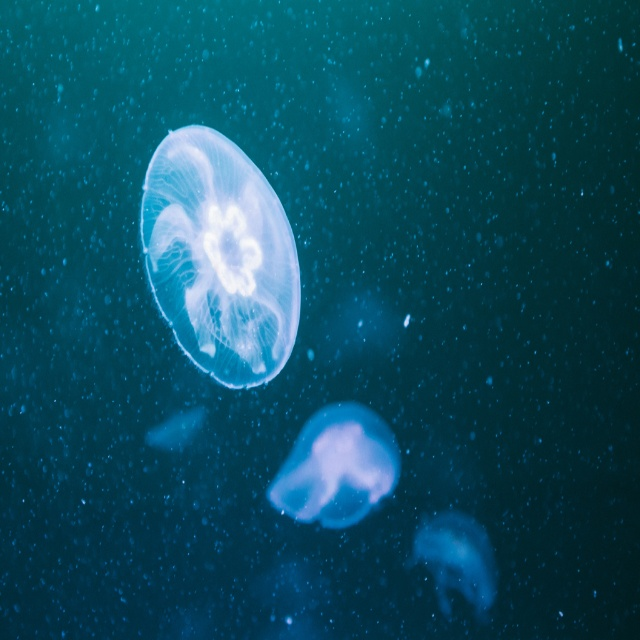Jellyfish: (139, 122, 302, 391), (262, 399, 402, 527), (400, 517, 500, 614)
